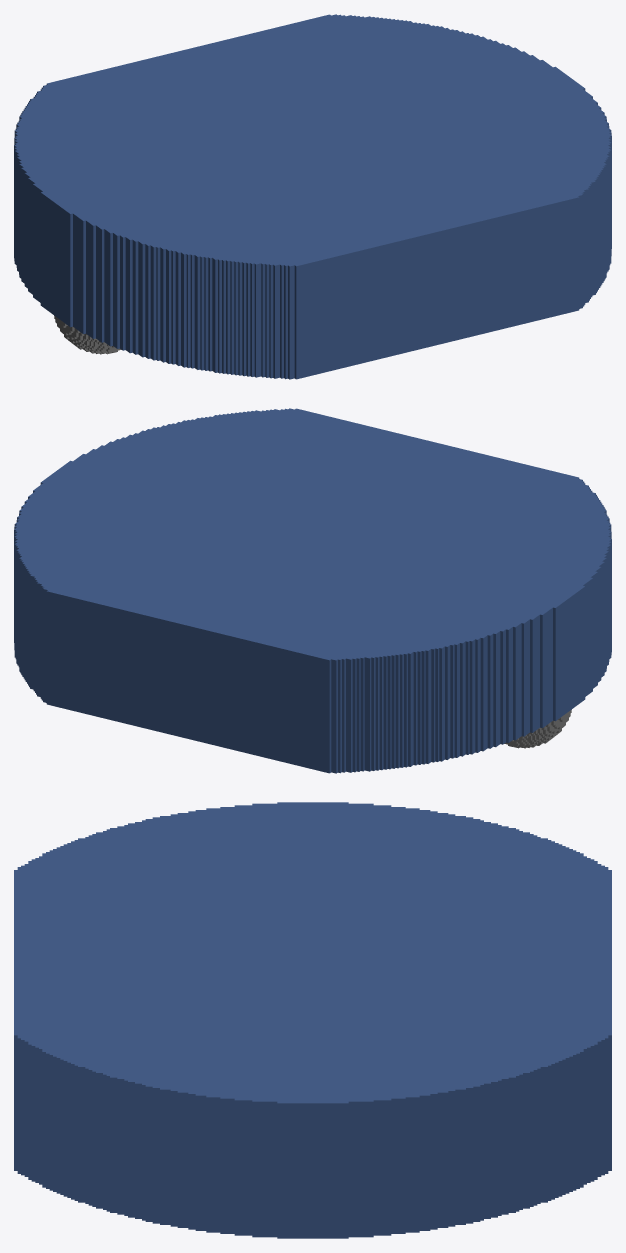
Rendered from robot-0.obj.
3 views of the same model, one above another, from view 1: azimuth 30°, elevation 25°; view 2: azimuth 150°, elevation 25°; view 3: azimuth 270°, elevation 25° (orthographic). The views are drawn at different scales.
Size of the model in its own units: 20 by 5.8 by 16.8.
1 material, 1 textured.
